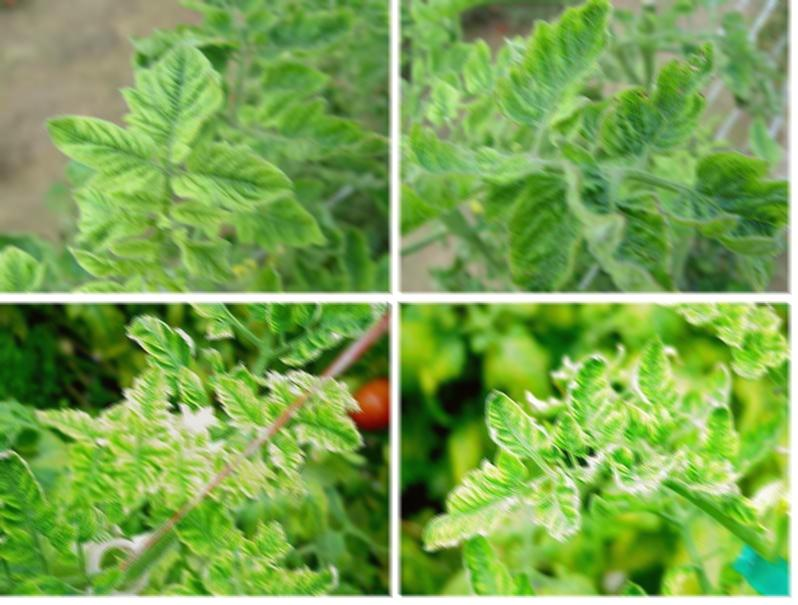Tomato leaf yellow virus: (642, 147, 787, 270), (591, 54, 718, 171), (504, 6, 614, 122), (130, 38, 228, 168), (483, 164, 584, 287), (417, 458, 547, 553), (37, 109, 157, 180), (182, 141, 313, 197), (513, 467, 587, 566), (1, 443, 61, 551), (478, 388, 555, 472), (567, 349, 629, 449), (108, 438, 166, 509), (635, 324, 677, 414), (295, 407, 364, 460), (181, 495, 236, 555), (211, 375, 263, 430), (122, 368, 167, 426), (246, 514, 292, 570), (700, 397, 734, 472), (547, 413, 595, 457), (177, 361, 208, 414), (644, 399, 676, 446)
